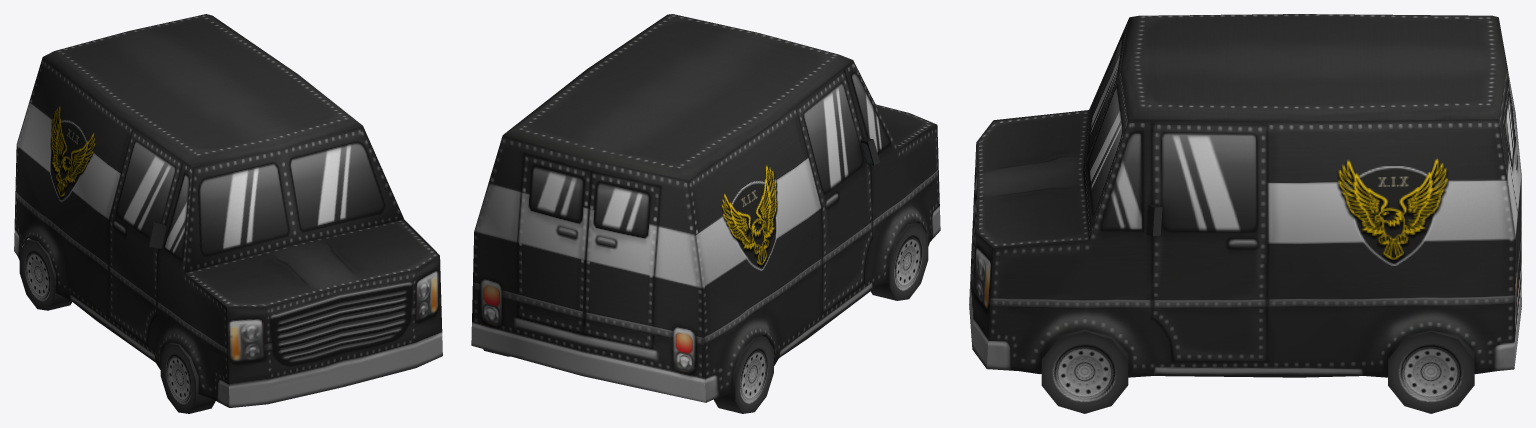
Rendered from Car_02.FBX.
The picture shows the model from 3 angles, left to right: view 1: azimuth 30°, elevation 25°; view 2: azimuth 150°, elevation 25°; view 3: azimuth 270°, elevation 25°; orthographic projection. The views are drawn at different scales.
Parts seen in each view (by area): view 1: car2, car02_wheel04, car02_wheel02; view 2: car2, car02_wheel02, car02_wheel04; view 3: car2, car02_wheel03, car02_wheel01.
Part boxes in pixels (box(x1,y1,x2,y2)): car2: box(14, 14, 442, 407); car02_wheel04: box(160, 342, 215, 413); car02_wheel02: box(19, 239, 71, 310); car2: box(471, 14, 940, 402); car02_wheel02: box(713, 336, 773, 413); car02_wheel04: box(870, 222, 928, 300); car2: box(969, 14, 1521, 377); car02_wheel03: box(1041, 329, 1128, 413); car02_wheel01: box(1388, 330, 1474, 413).
Size of the model in its own units: 1866 by 3046 by 1713.
